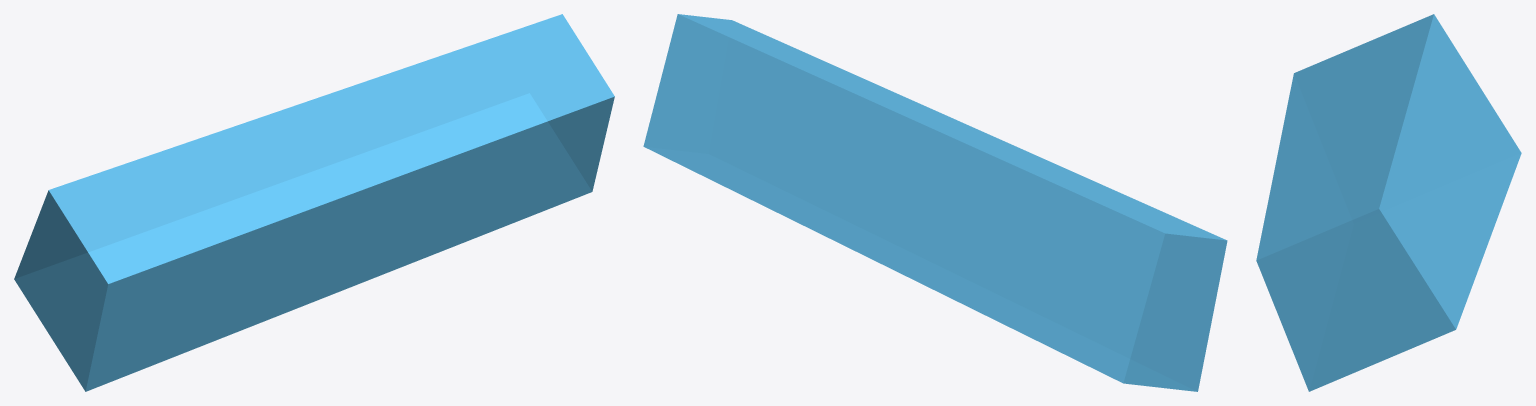
File: Event_420094457_HErechit_13.fbx
3 views of the same model, side by side, from view 1: azimuth 30°, elevation 25°; view 2: azimuth 150°, elevation 25°; view 3: azimuth 270°, elevation 25° (orthographic). The views are drawn at different scales.
Visible parts, largest first — view 1: Model; view 2: Model; view 3: Model.
Boxes of the visible parts, <box> form: Model: <box>14,14,614,391</box>; Model: <box>643,14,1227,391</box>; Model: <box>1256,14,1521,391</box>.
Bounding box in the file's own units: 1.44 × 0.7032 × 0.5739.
